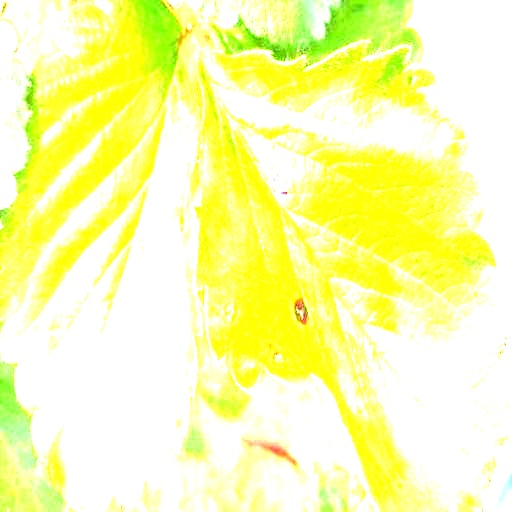Leaf Spot: (193, 40, 511, 511), (0, 0, 203, 511)
